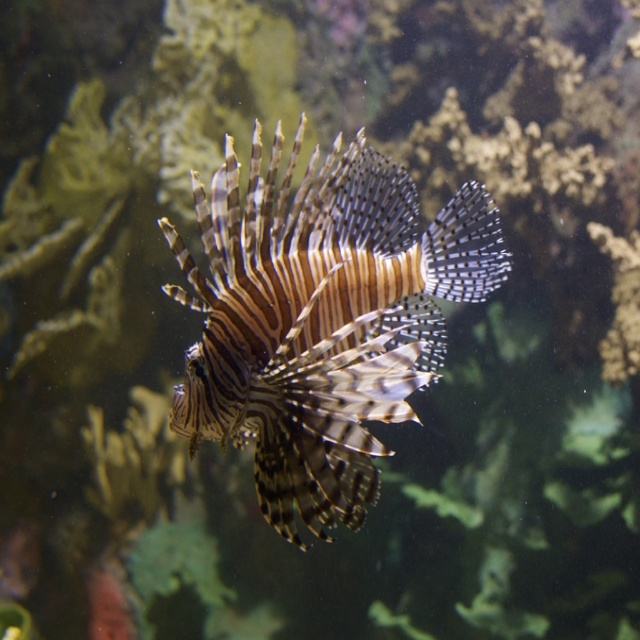Fish: (156, 109, 515, 556)
